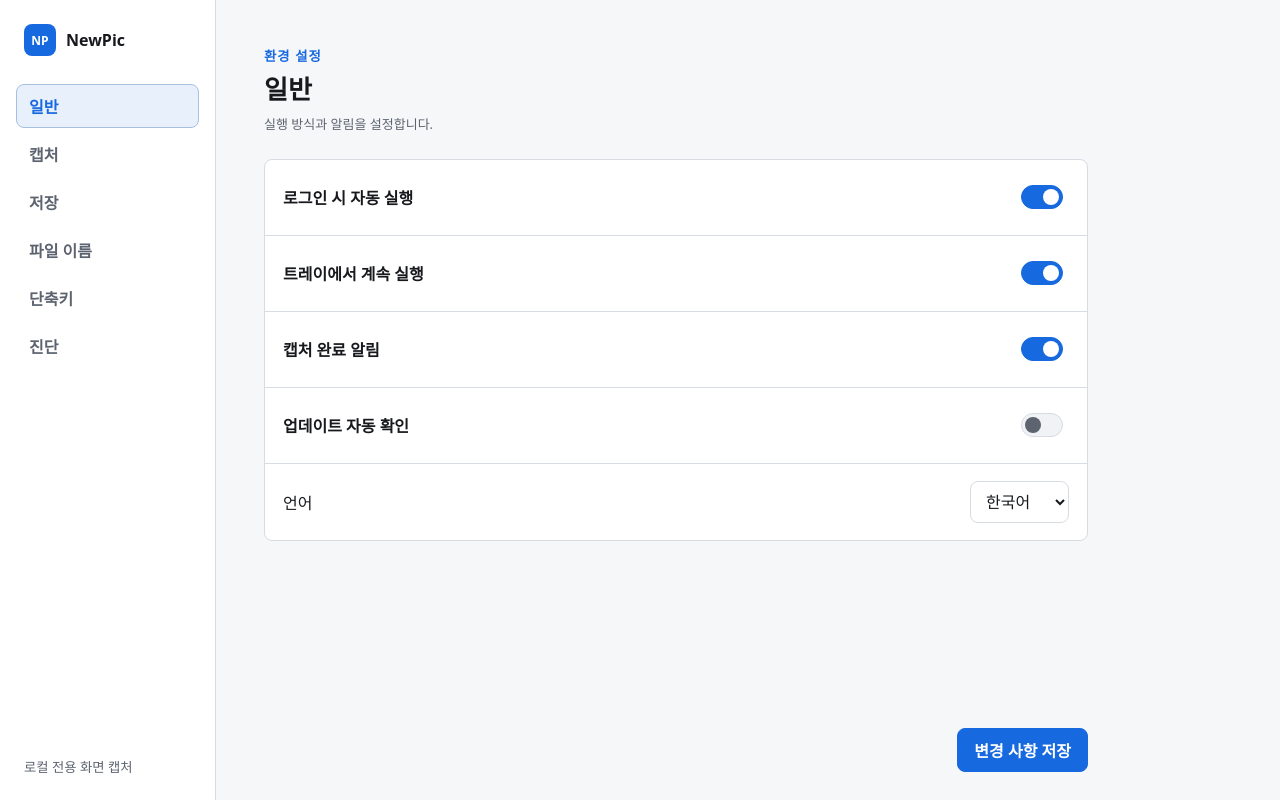
Scenario: NewPic settings › reveals JPEG quality only for JPEG
This screenshot has width=1280, height=800.
Check: the heading "일반" is shown, box [264,71,312,107]
Click the button "저장". click: x=108, y=202
box: [16,180,199,224]
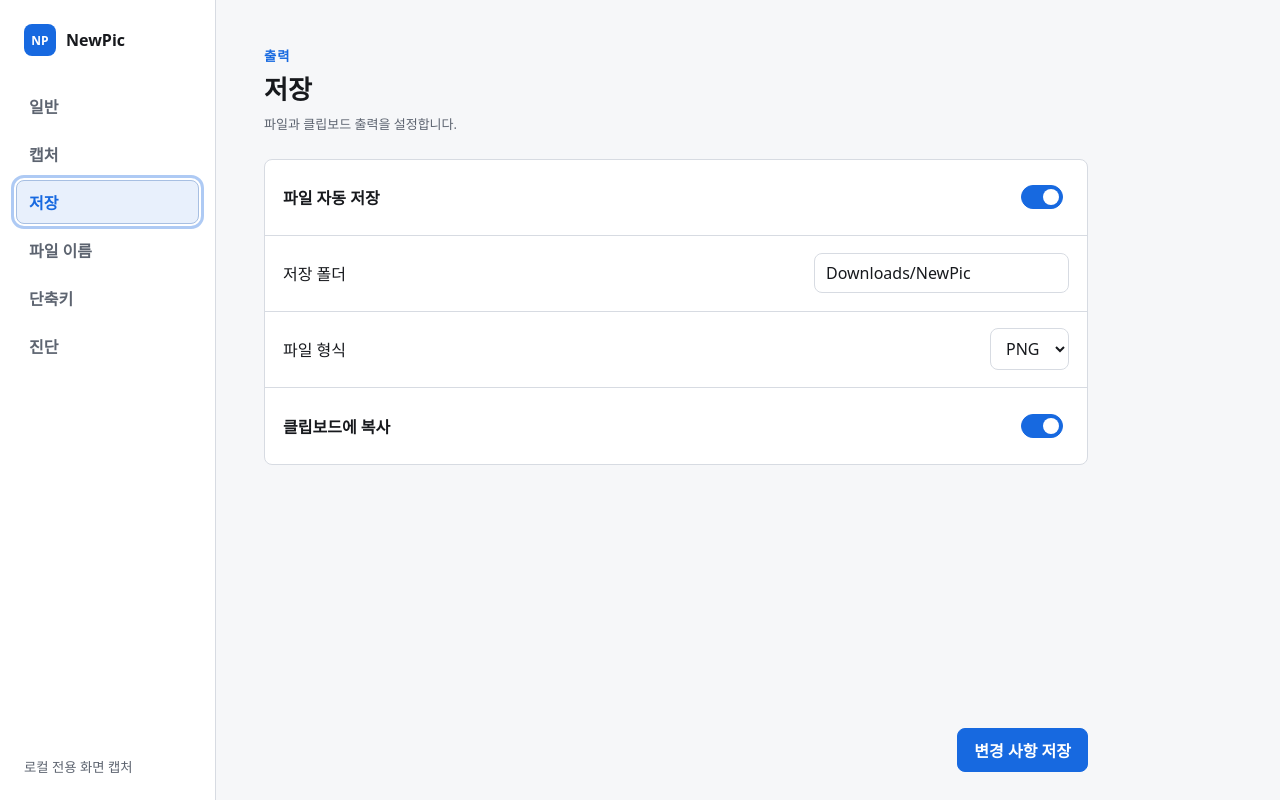
Check: the field labelled "JPEG 품질" is not shown
Select "JPEG" in the dropdown labelled "파일 형식". click: x=1030, y=349
box: [990,328,1069,370]
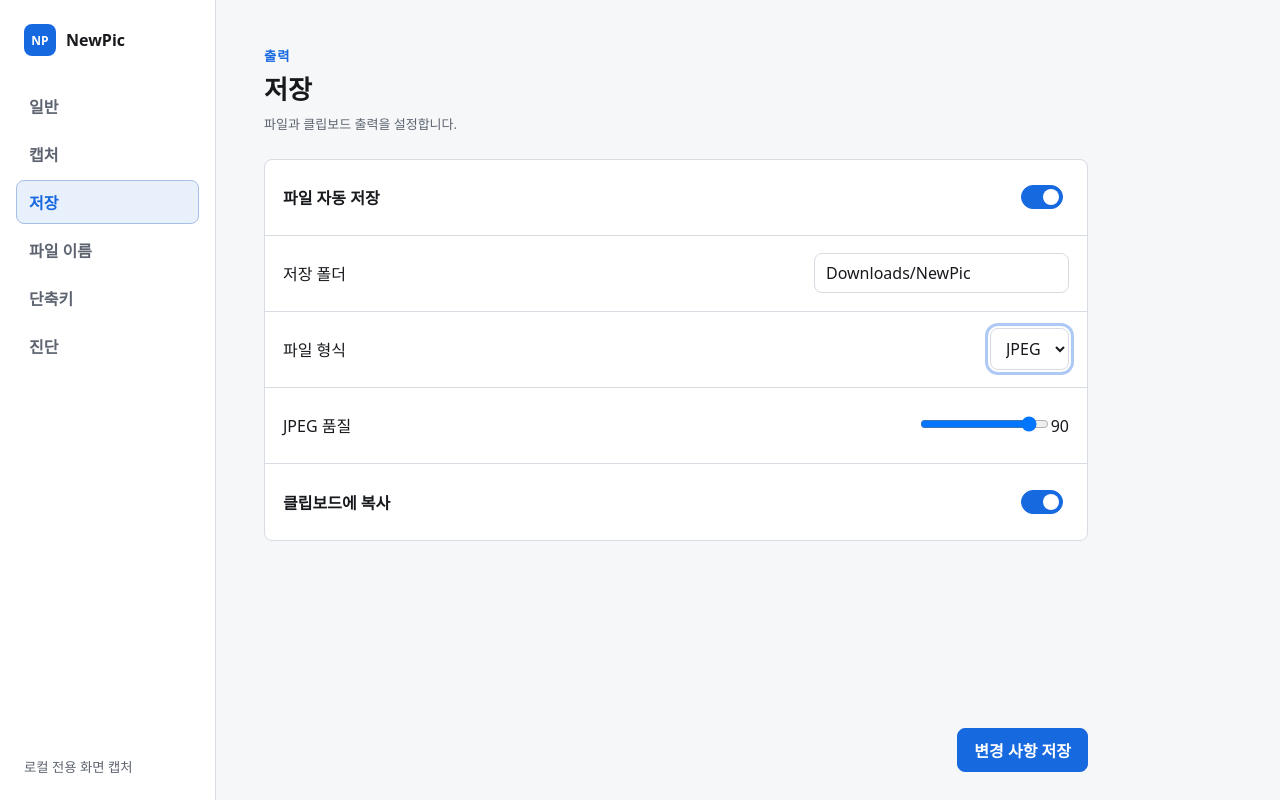
Check: the slider labelled "JPEG 품질" holds "90", box [920,416,1049,432]
Select "PNG" in the dropdown labelled "파일 형식". click: x=1030, y=349
box: [990,328,1069,370]
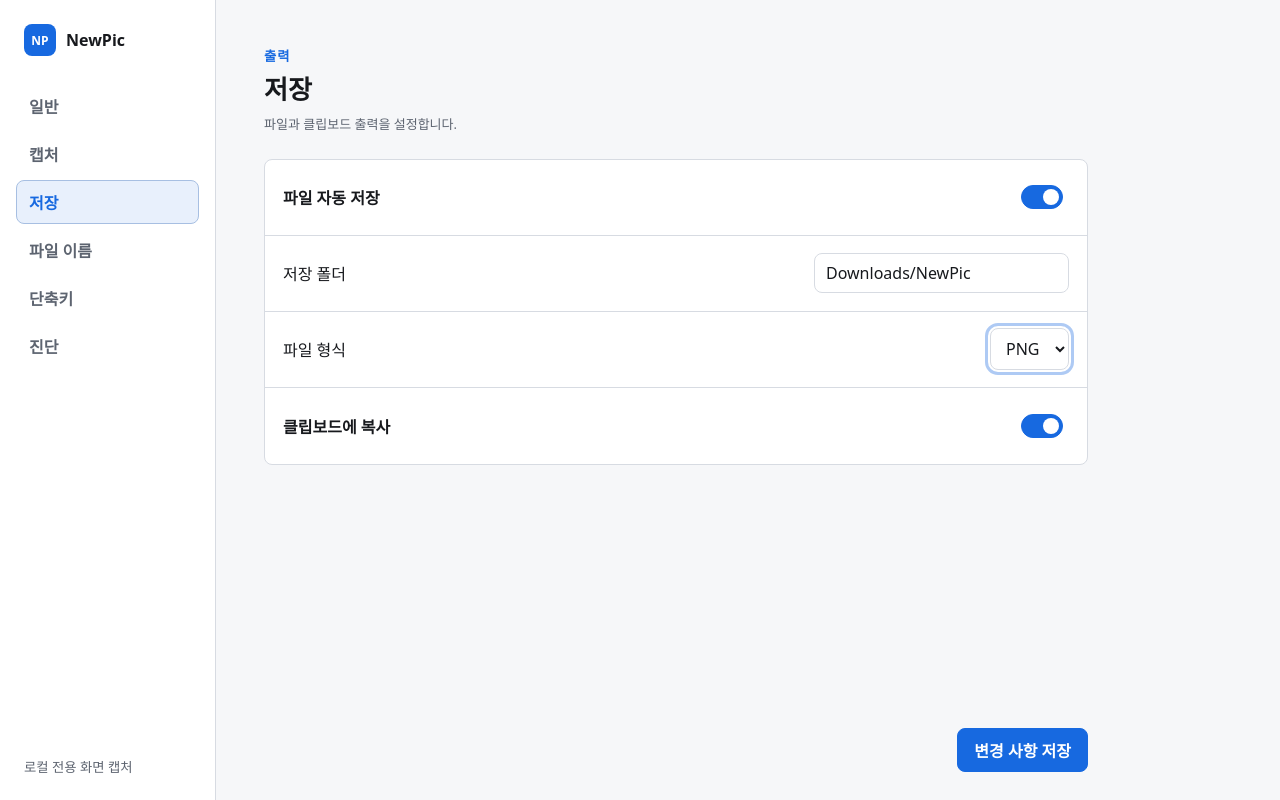
Check: the label labelled "JPEG 품질" is gone
